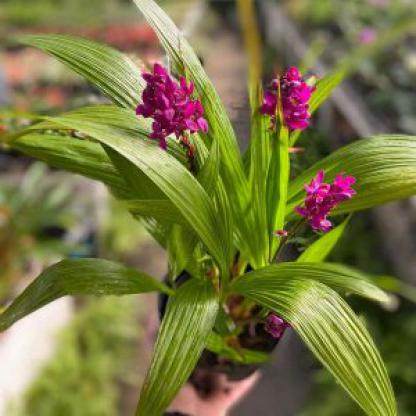ANGGREK: (113, 23, 392, 270)
